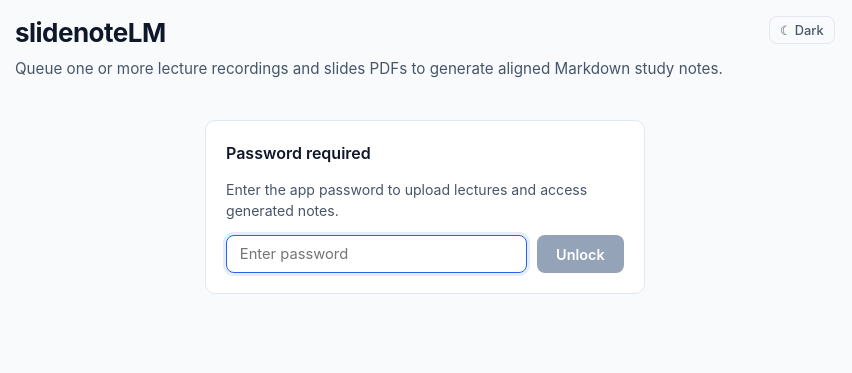
it: slidenoteLM App › shows rate-limit error message when login returns 429
Type "guess" into the password field labelled "password".
click(377, 254); type("guess")  # box [226, 235, 527, 273]
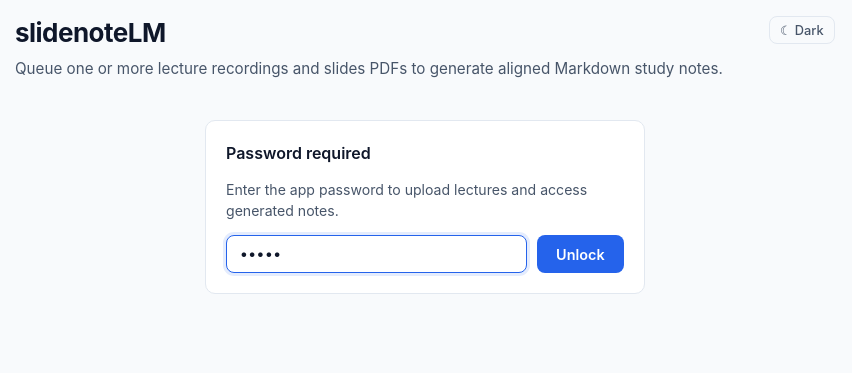
Click the button "Unlock".
click(580, 254)  # box [537, 235, 624, 273]
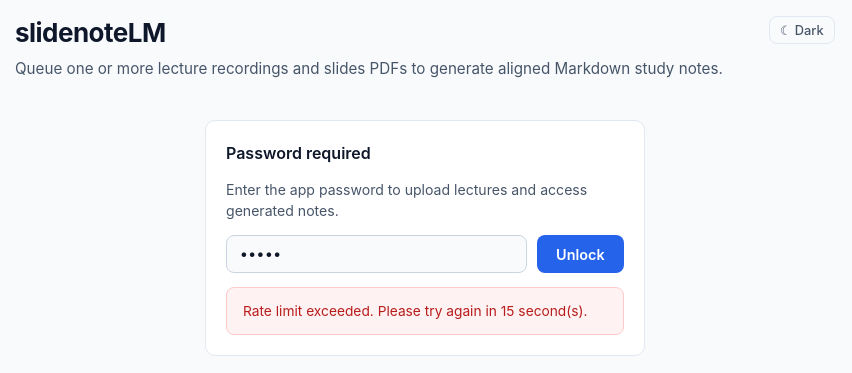
expect the message shows "15 second": met, box [243, 303, 588, 319]
